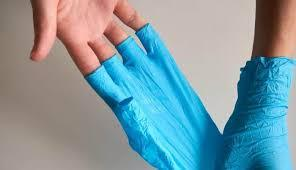Glove: (85, 24, 221, 169), (219, 56, 295, 169)
